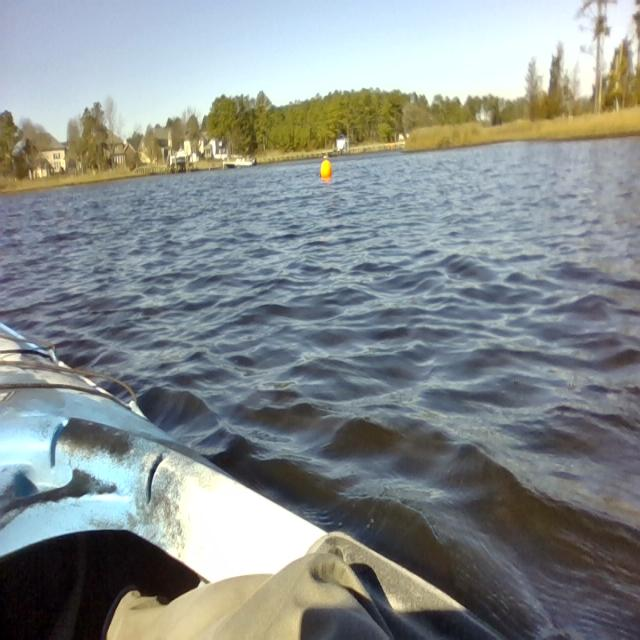Buoy: (317, 158, 336, 183)
